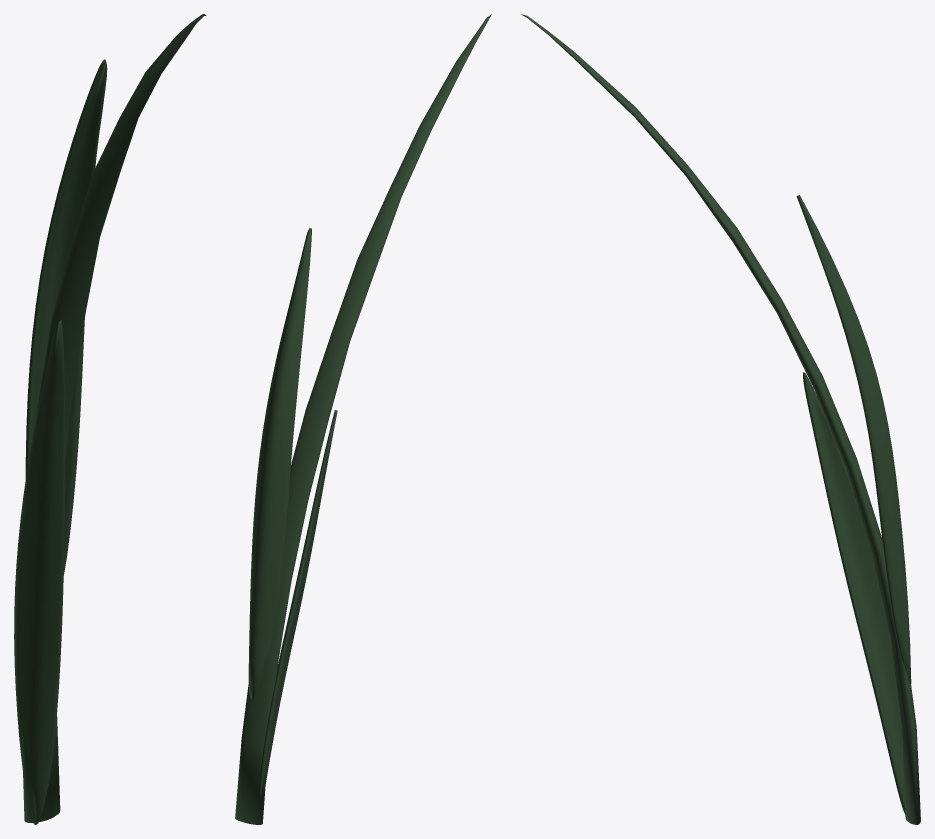
Rendered from SM_Iris_Grass_Bend1.fbx.
3 renders of one model, left to right at view 1: azimuth 30°, elevation 25°; view 2: azimuth 150°, elevation 25°; view 3: azimuth 270°, elevation 25°, orthographic. The views are drawn at different scales.
Visible parts, largest first — view 1: SM_Flower_Iris_Grass_Bend1; view 2: SM_Flower_Iris_Grass_Bend1; view 3: SM_Flower_Iris_Grass_Bend1.
Boxes of the visible parts, <box> form: SM_Flower_Iris_Grass_Bend1: <box>14,14,206,824</box>; SM_Flower_Iris_Grass_Bend1: <box>235,14,491,824</box>; SM_Flower_Iris_Grass_Bend1: <box>521,14,920,824</box>.
Size of the model in its own units: 16.28 by 137 by 64.6.
